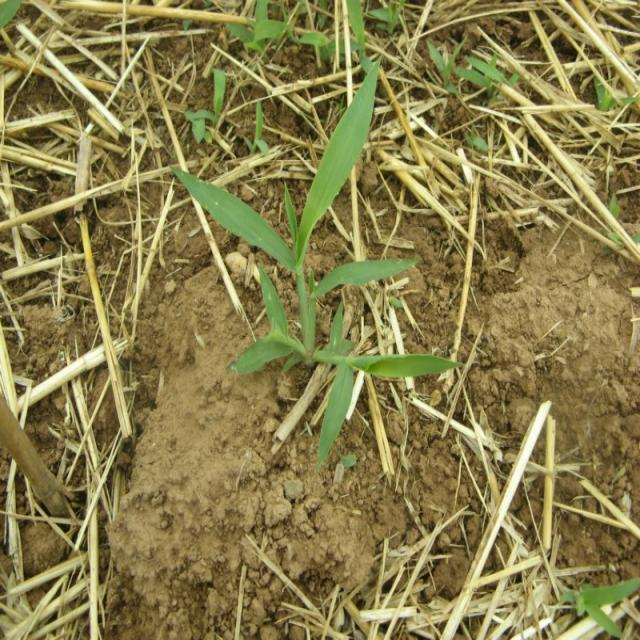bg: (172, 58, 461, 462)
